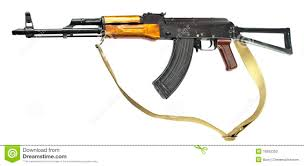gun: (10, 9, 295, 101)
